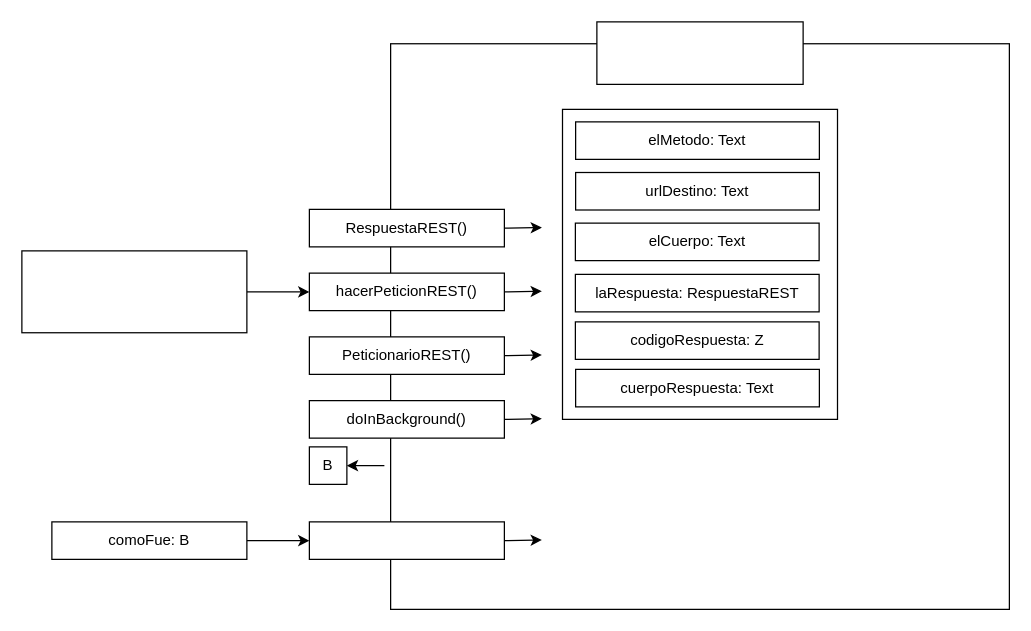
Image size: 1031x631. Some labels were removed from this diagram. Each missing label, with the centre of its shape:
"metodo: Text urlDestino: Text cuerpo: Text laRespuesta: RespuestaREST" belongs at [134,291].
"onPostExecute" belongs at [406,540].
"PeticionarioREST" belongs at [699,52].
